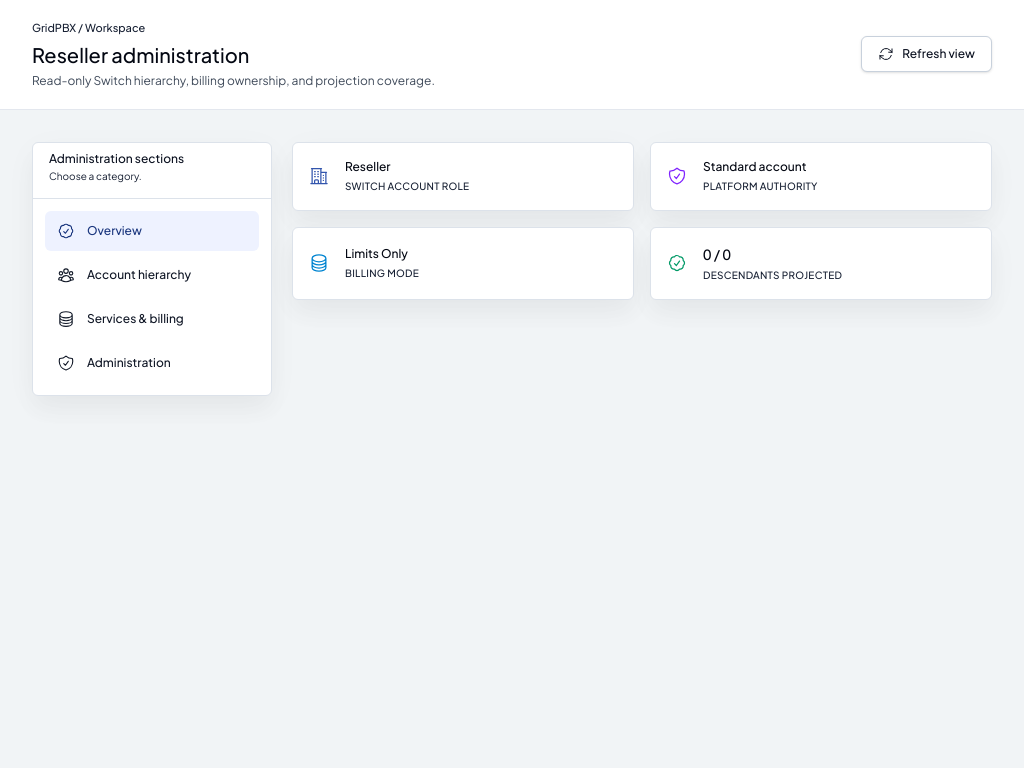
Test: ResellerAdministrationPage › organizes reseller information into focused, hash-linked sections
The width and height of the screenshot is (1024, 768).
Expected: the navigation bar named "Reseller administration sections" is shown, top-left (32, 142), bottom-right (272, 396)
Expected: the element with id "reseller-overview" is shown, top-left (292, 142), bottom-right (992, 300)
Step 1. Click the button "Services & billing" → point(152, 318), box top-left (45, 298), bottom-right (259, 338)
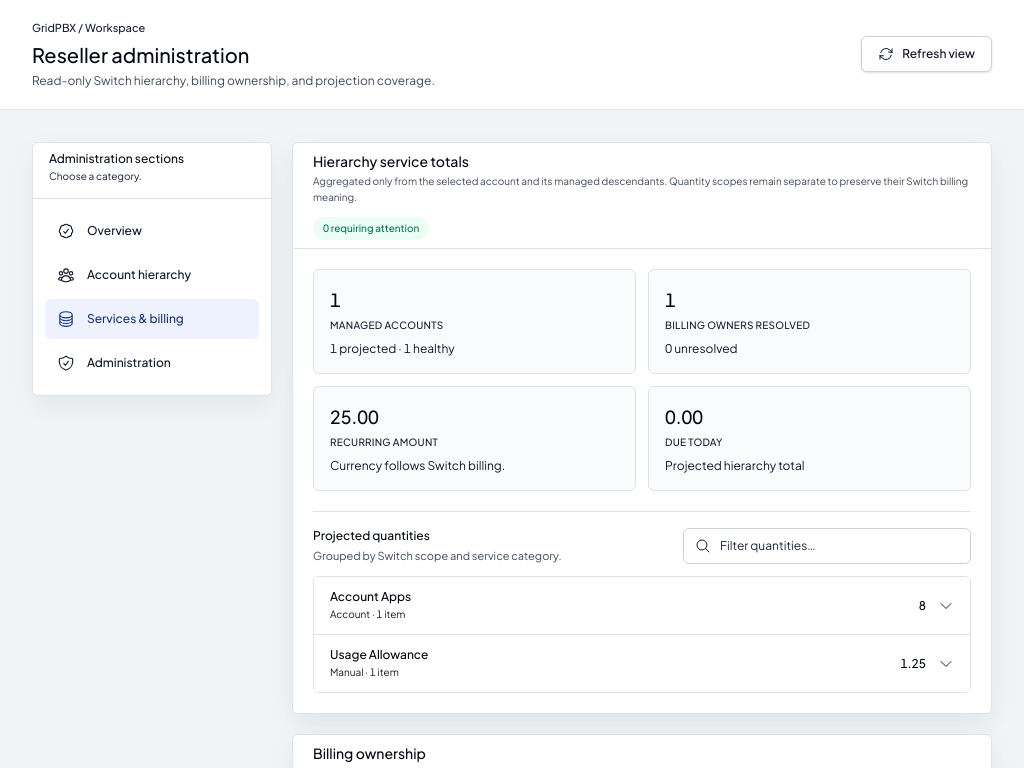
Expected: the element with id "services-billing" is shown, top-left (292, 142), bottom-right (992, 714)
Expected: the button with test id "service-quantity-group" shows "8", top-left (314, 577), bottom-right (970, 634)
Expected: the button with test id "service-quantity-group" shows "1.25", top-left (314, 635), bottom-right (970, 692)
Step 2. Click the button "Administration" → point(152, 362), box top-left (45, 342), bottom-right (259, 382)
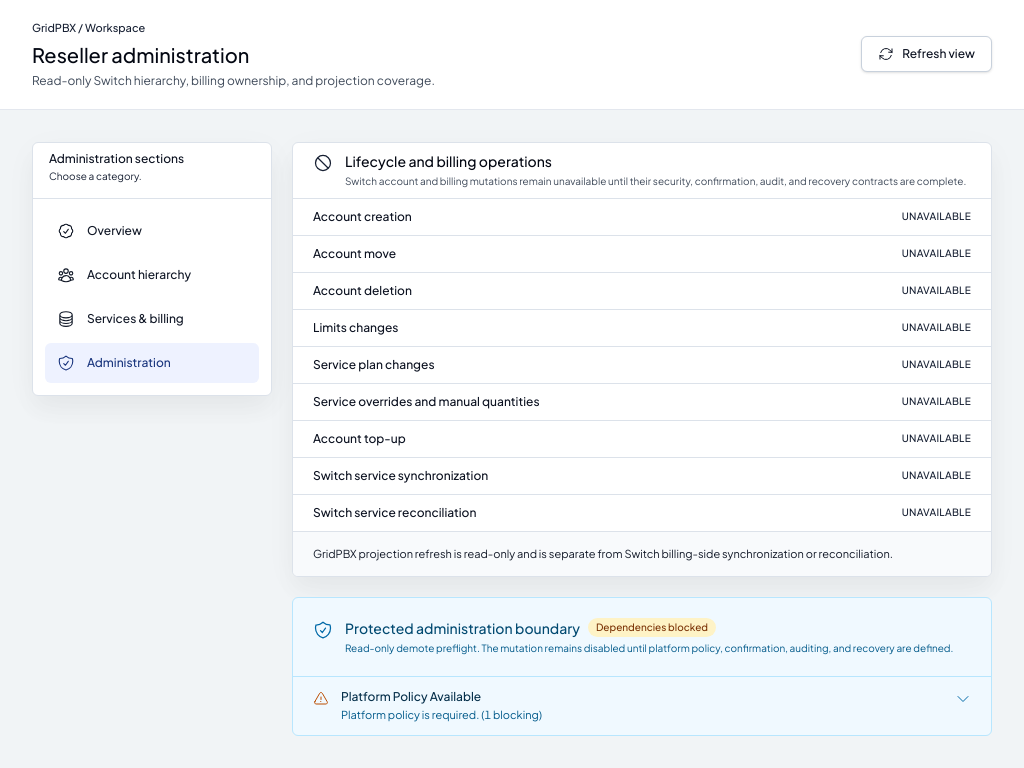
Expected: the element with id "administration-safeguards" is shown, top-left (292, 142), bottom-right (992, 576)
Expected: the element with test id "reseller-mutation-preflight" is shown, top-left (292, 596), bottom-right (992, 736)
Expected: the text "Switch service synchronization" is shown, top-left (313, 468), bottom-right (488, 484)
